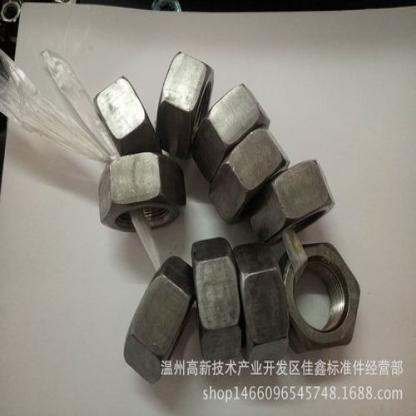FOD: (119, 250, 199, 384), (186, 81, 273, 187), (206, 121, 294, 225), (284, 241, 362, 356), (243, 155, 337, 243), (230, 240, 288, 377), (95, 151, 188, 236), (188, 233, 242, 374), (87, 73, 162, 163), (153, 48, 216, 155)
